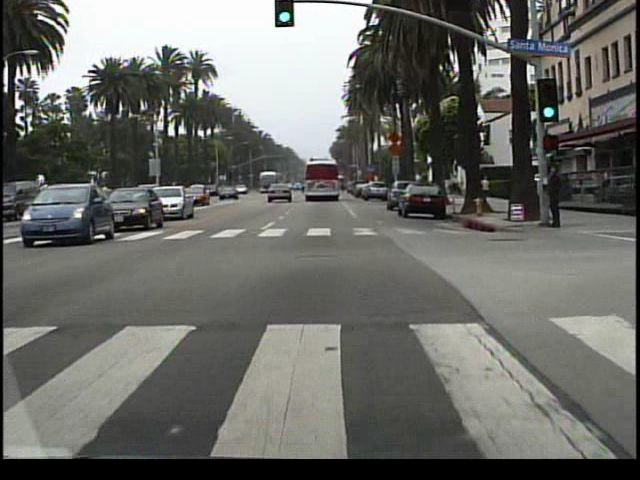person: (542, 160, 564, 232)
